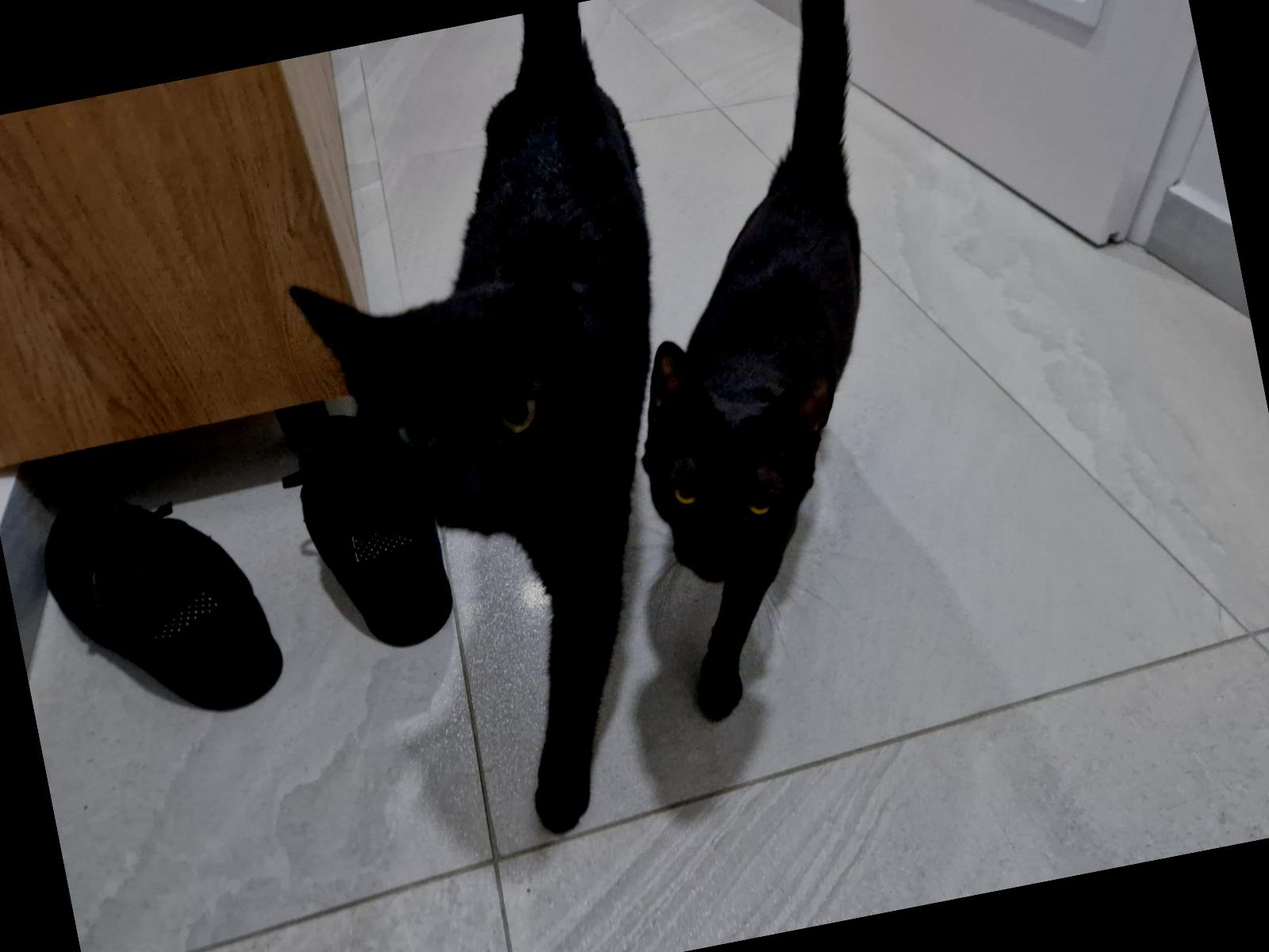macka: (243, 0, 758, 864), (554, 0, 990, 727)
